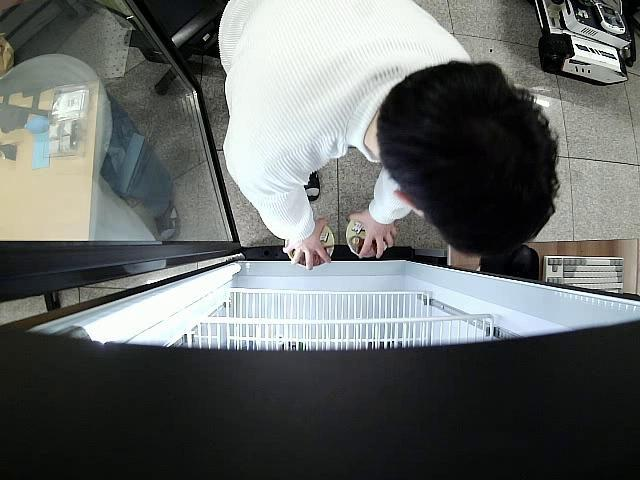03_chapagetti_L: (284, 226, 334, 267), (346, 220, 387, 260)
